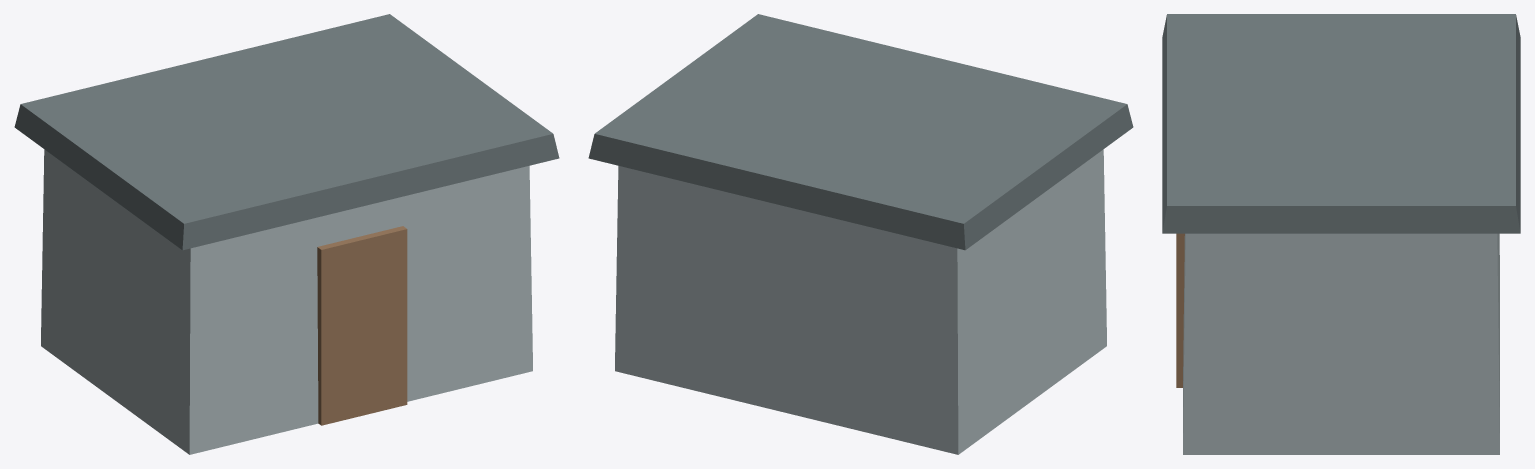
File: tool-shed-low.glb
The picture shows the model from 3 angles, left to right: view 1: azimuth 30°, elevation 25°; view 2: azimuth 150°, elevation 25°; view 3: azimuth 270°, elevation 25°; orthographic projection. The views are drawn at different scales.
Parts seen in each view (by area): view 1: tool-shed; view 2: tool-shed; view 3: tool-shed.
Boxes of the visible parts, x1,y1,x2,y2 form: tool-shed: (14,14,559,454); tool-shed: (588,14,1133,454); tool-shed: (1162,14,1520,454).
Size of the model in its own units: 3.95 by 2.4 by 3.05.
